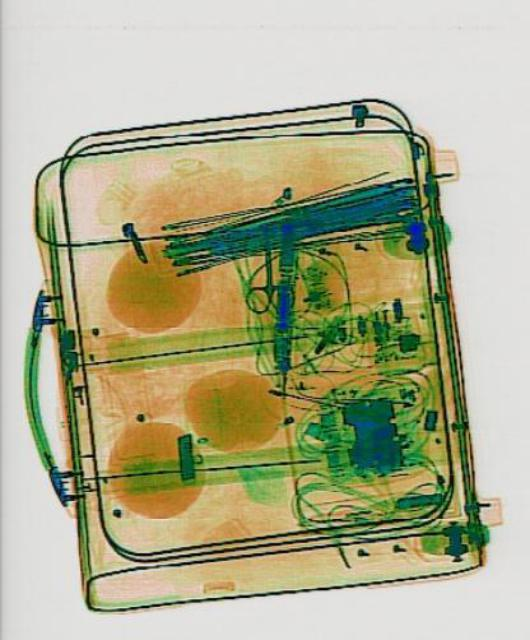Scissors: (241, 218, 291, 312)
